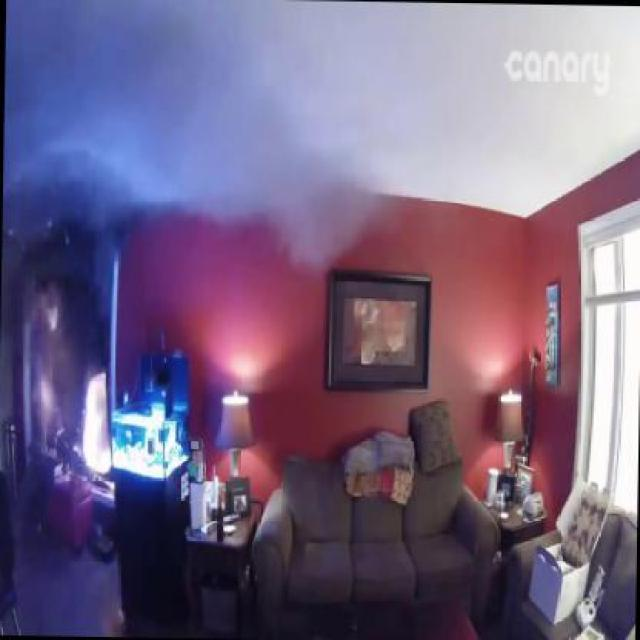fire: (6, 0, 415, 278)
